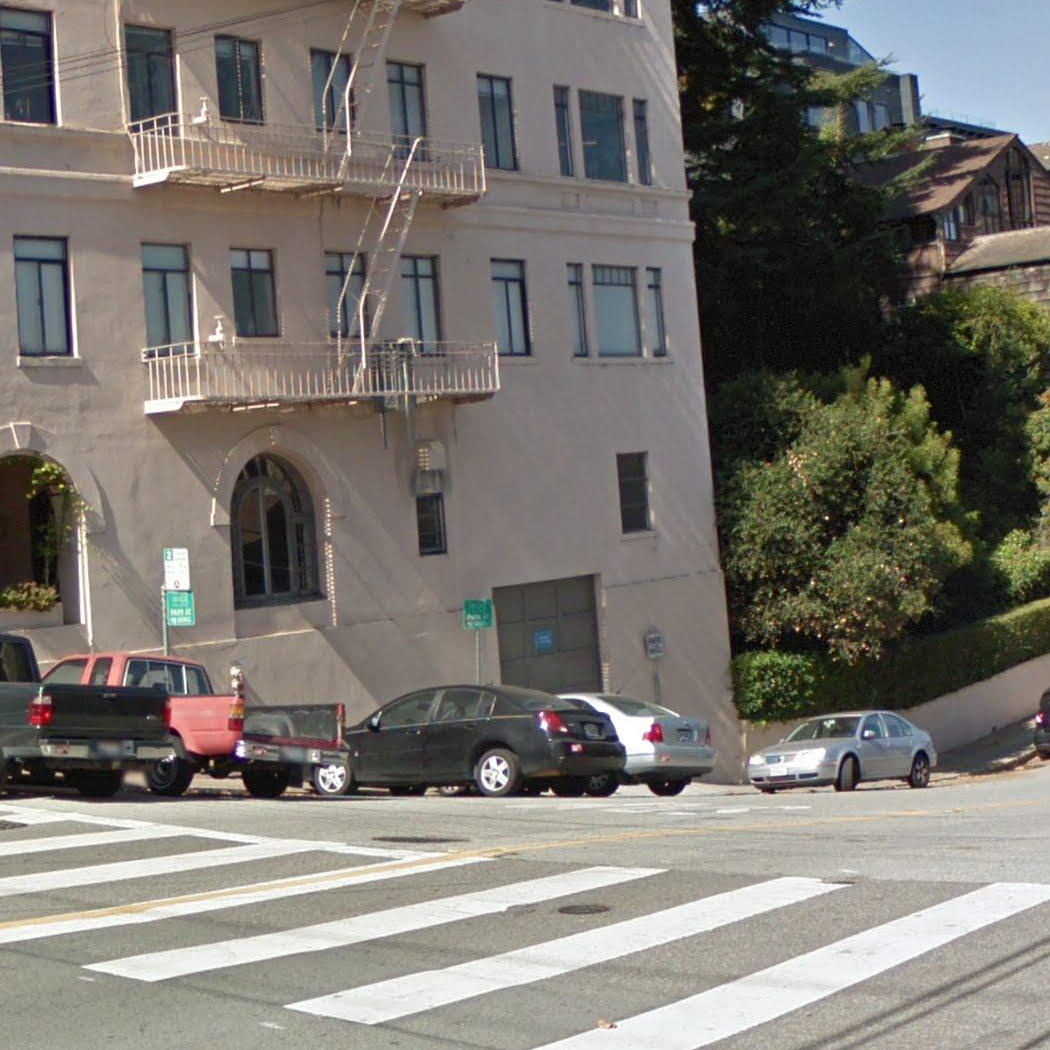2 Hour Parking: (162, 547, 190, 591)
